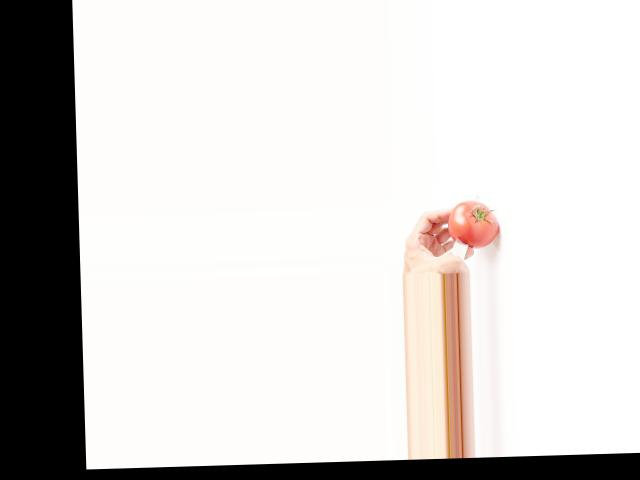tomato: (447, 200, 498, 248)
